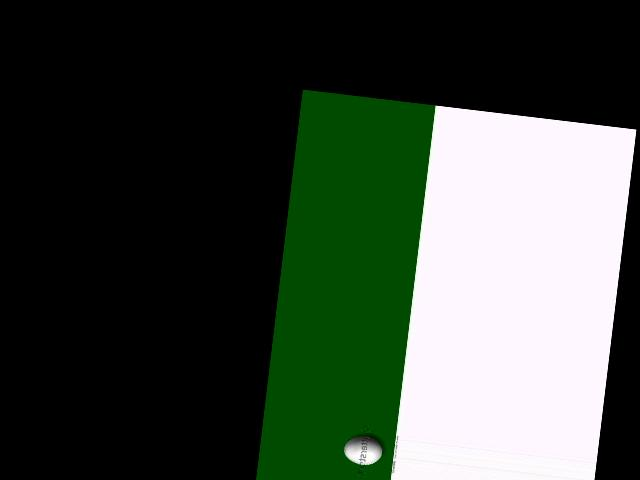egg: (342, 434, 383, 467)
